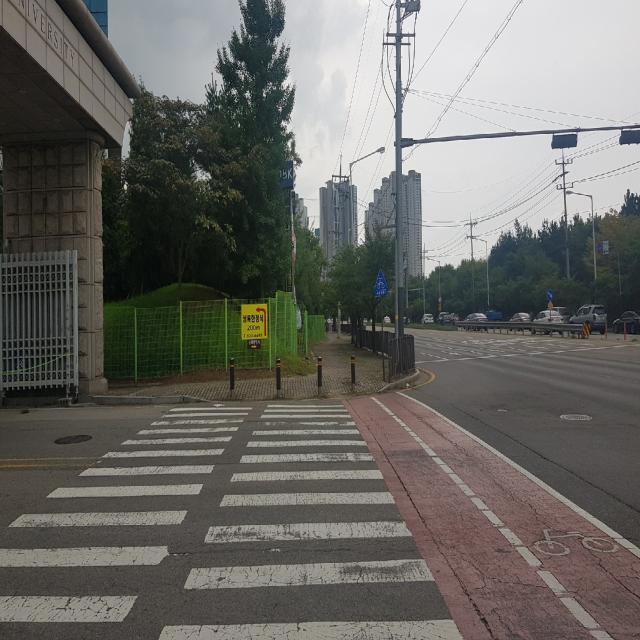횡단보도: (0, 403, 464, 639)
